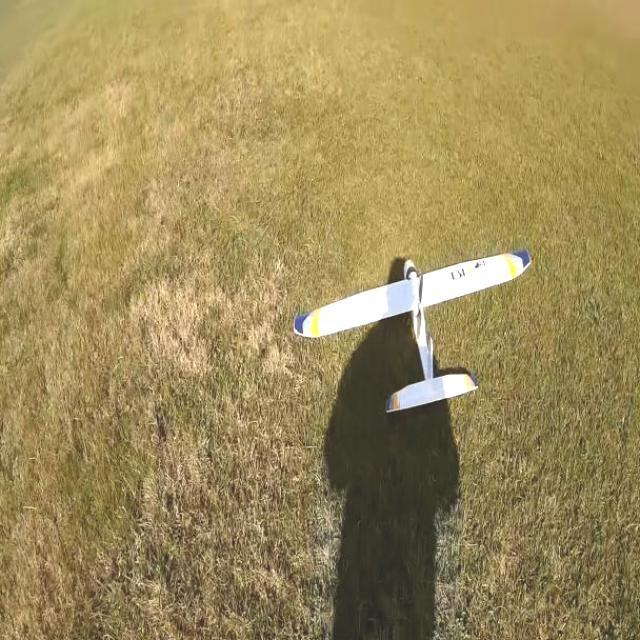iha: (295, 238, 533, 435)
